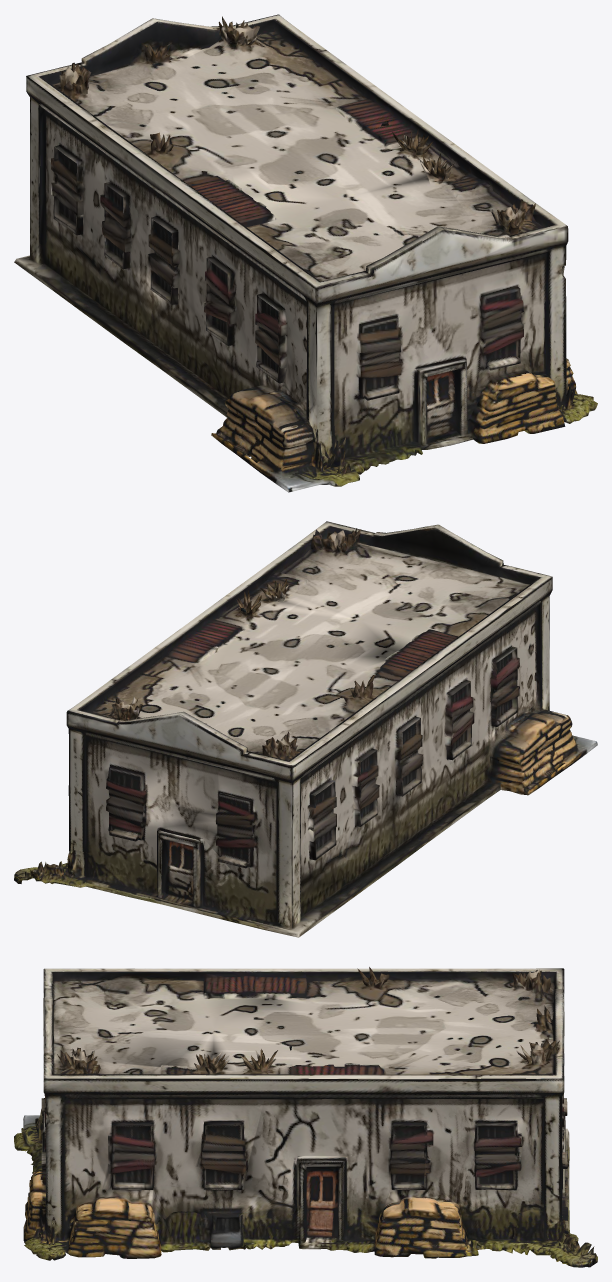
The model's file is abandoned+building+3d+model.fbx.
The picture shows the model from 3 angles, top to bottom: view 1: azimuth 30°, elevation 25°; view 2: azimuth 150°, elevation 25°; view 3: azimuth 270°, elevation 25°; orthographic projection. The views are drawn at different scales.
Visible parts, largest first — view 1: tripo_node_167a24d4; view 2: tripo_node_167a24d4; view 3: tripo_node_167a24d4.
Part boxes in pixels (x1,y1,x2,y2): tripo_node_167a24d4: (14, 14, 597, 492); tripo_node_167a24d4: (14, 521, 597, 937); tripo_node_167a24d4: (14, 967, 597, 1267).
Size of the model in its own units: 0.6011 by 0.368 by 0.9988.
Materials: 1 (1 with a texture image).
